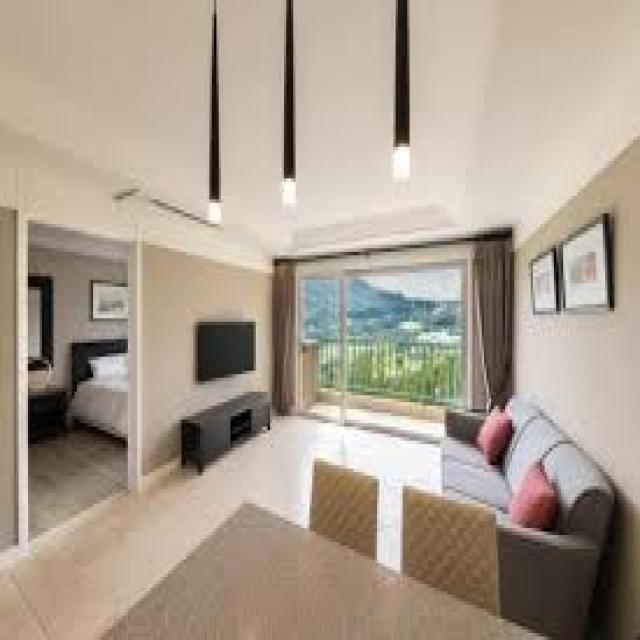Sofa: (440, 396, 613, 630)
tv: (193, 316, 255, 382)
window: (294, 270, 470, 418)
